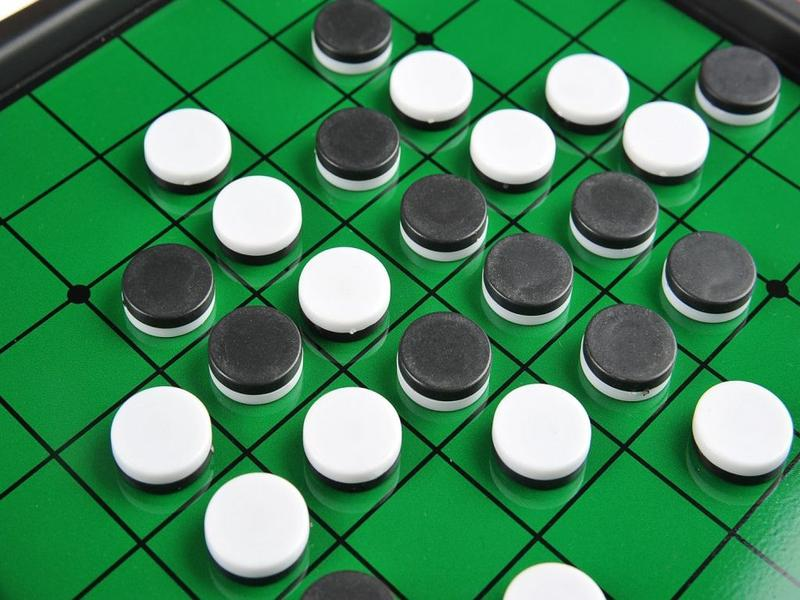black: (644, 213, 780, 331), (574, 300, 691, 420), (476, 229, 581, 341), (198, 305, 308, 409), (387, 308, 498, 409), (110, 244, 226, 337), (383, 168, 498, 258), (295, 107, 406, 189)
white: (94, 379, 220, 491), (482, 375, 596, 488), (296, 383, 410, 491), (290, 240, 397, 344), (466, 102, 563, 203), (209, 170, 308, 268), (136, 101, 237, 189)
